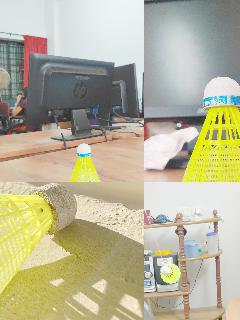shuttlecock: (0, 183, 77, 319), (176, 76, 239, 181), (66, 143, 102, 181), (160, 263, 180, 283)
